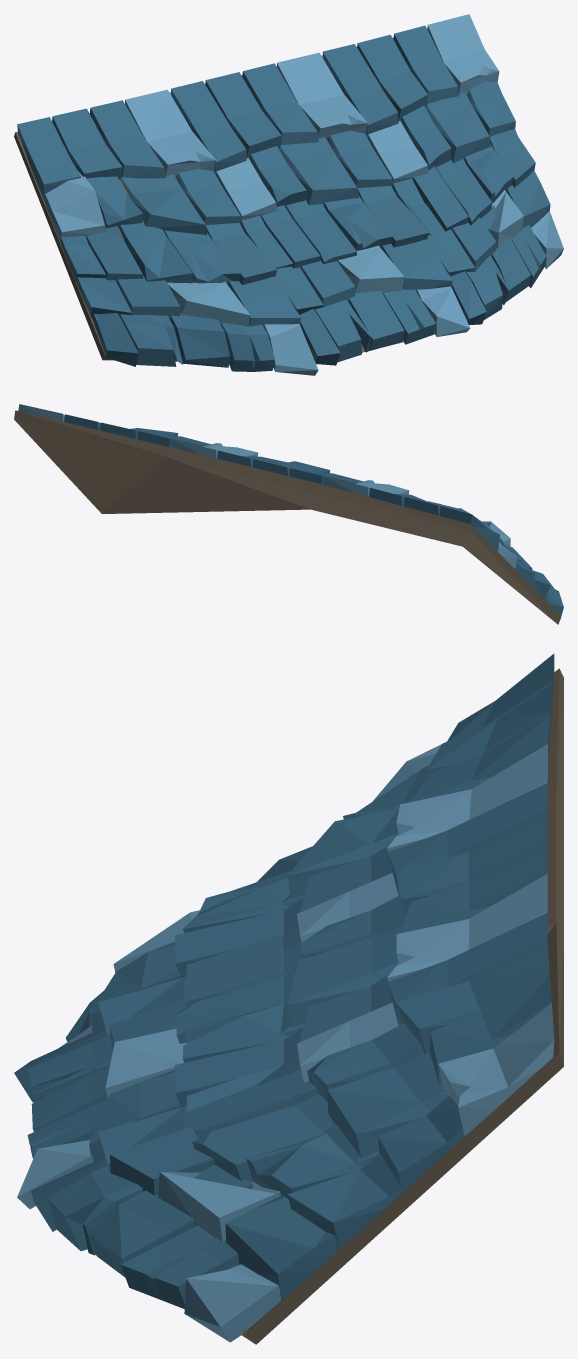
File: ROOF_base_round_1.fbx
3 views of the same model, one above another, from view 1: azimuth 30°, elevation 25°; view 2: azimuth 150°, elevation 25°; view 3: azimuth 270°, elevation 25° (orthographic). The views are drawn at different scales.
Parts seen in each view (by area): view 1: ROOF_base_round_1; view 2: ROOF_base_round_1; view 3: ROOF_base_round_1.
Part boxes in pixels (bbox=[...]): ROOF_base_round_1: bbox=[14, 14, 563, 375]; ROOF_base_round_1: bbox=[14, 404, 563, 624]; ROOF_base_round_1: bbox=[14, 653, 563, 1344].
Bounding box in the file's own units: 301 × 112 × 179.
